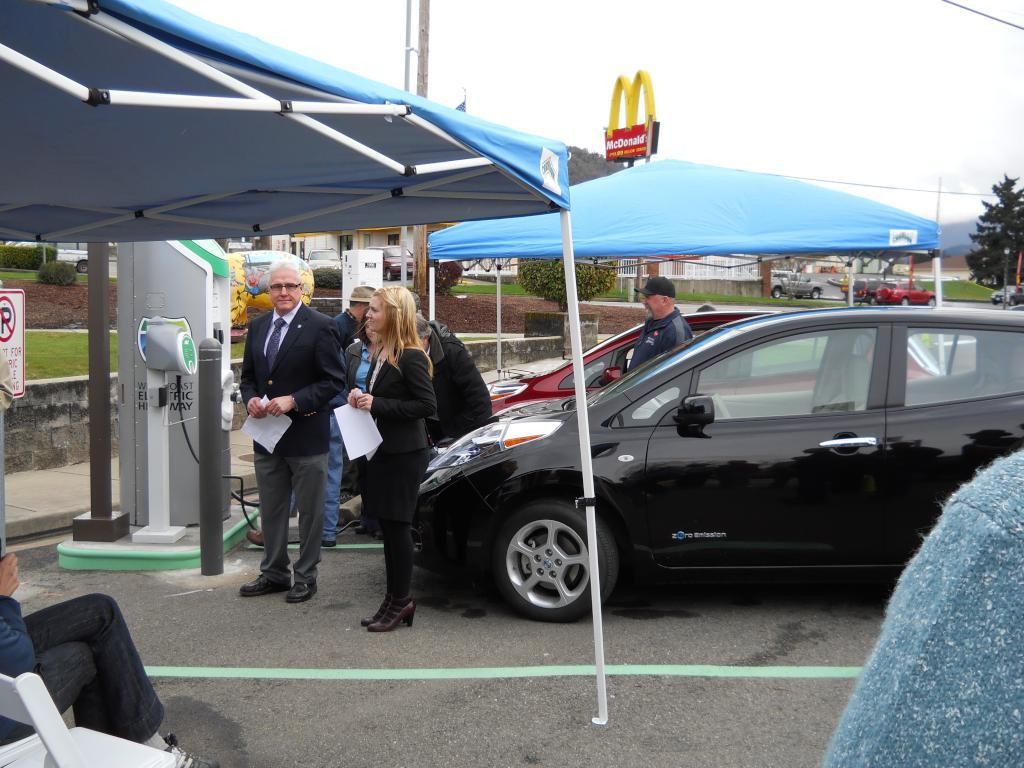Car: (414, 306, 1022, 624), (485, 311, 768, 415), (773, 266, 816, 293), (874, 287, 928, 302)
